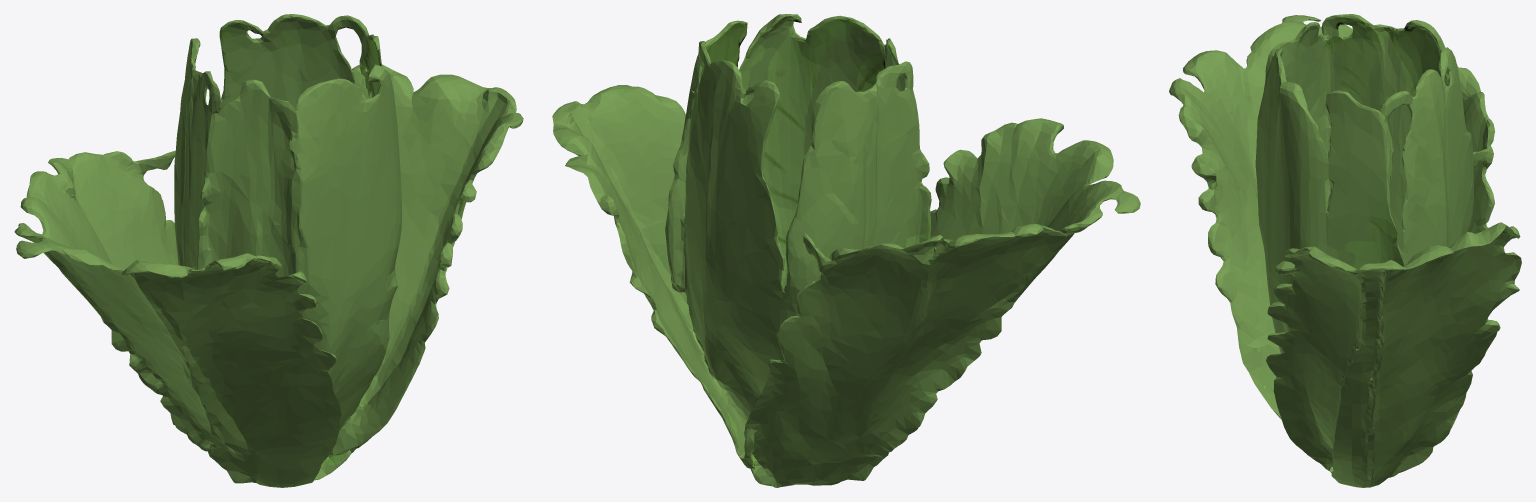
File: lettuce.glb
The picture shows the model from 3 angles, left to right: view 1: azimuth 30°, elevation 25°; view 2: azimuth 150°, elevation 25°; view 3: azimuth 270°, elevation 25°; orthographic projection. The views are drawn at different scales.
Visible parts, largest first — view 1: world; view 2: world; view 3: world.
Part boxes in pixels (bbox=[...]): world: bbox=[14, 14, 523, 487]; world: bbox=[552, 14, 1140, 487]; world: bbox=[1169, 14, 1521, 487].
Bounding box in the file's own units: 0.8505 × 0.6665 × 0.5011.
Materials: 1 (1 with a texture image).
